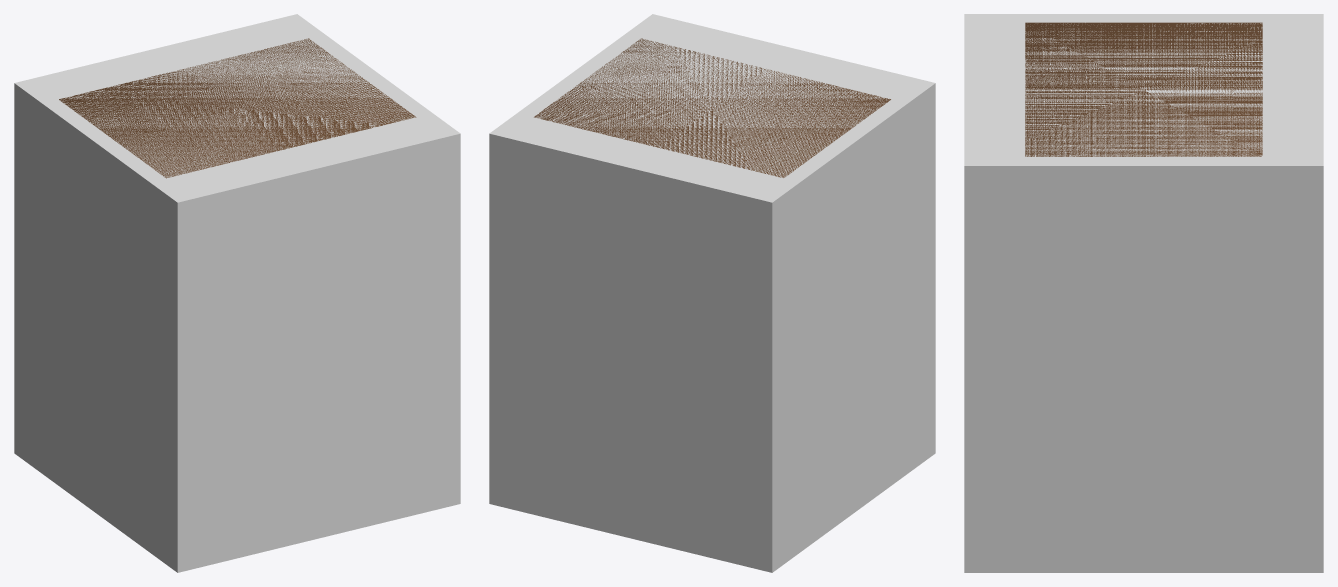
File: anchor_timber_a.glb
The picture shows the model from 3 angles, left to right: view 1: azimuth 30°, elevation 25°; view 2: azimuth 150°, elevation 25°; view 3: azimuth 270°, elevation 25°; orthographic projection. The views are drawn at different scales.
Parts seen in each view (by area): view 1: anchor_timber_a-col, anchor_timber_a; view 2: anchor_timber_a-col, anchor_timber_a; view 3: anchor_timber_a-col, anchor_timber_a.
Boxes of the visible parts, box(x1,y1,x2,y2) form: anchor_timber_a-col: box(14, 14, 460, 572); anchor_timber_a: box(59, 38, 416, 178); anchor_timber_a-col: box(489, 14, 935, 572); anchor_timber_a: box(534, 38, 890, 177); anchor_timber_a-col: box(964, 14, 1323, 572); anchor_timber_a: box(1025, 22, 1262, 156).
Size of the model in its own units: 8 by 10 by 8.
